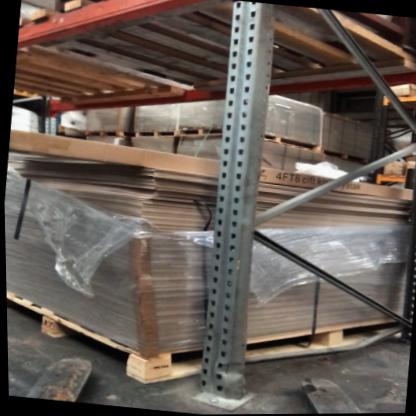vertical_damage: (187, 347, 265, 411)
